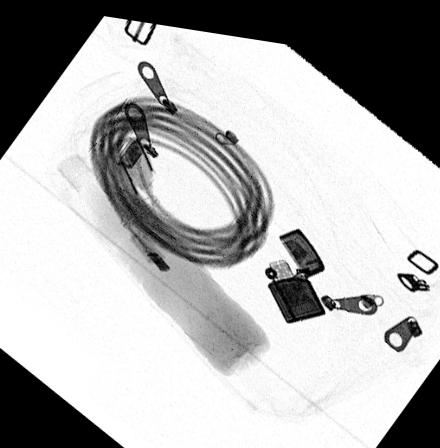Lighter: (262, 218, 325, 315)
